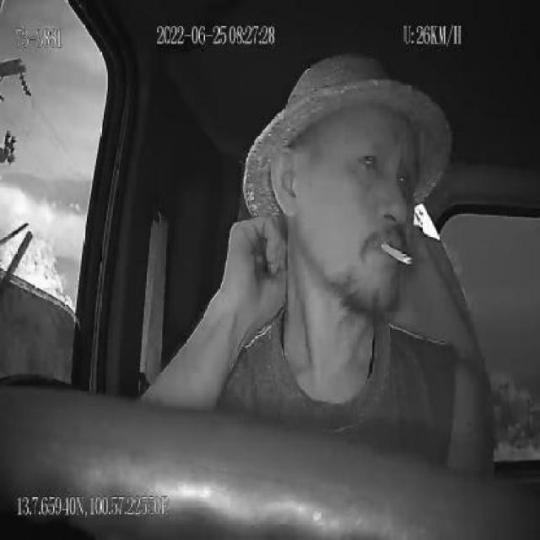smoking: (378, 235, 413, 271)
